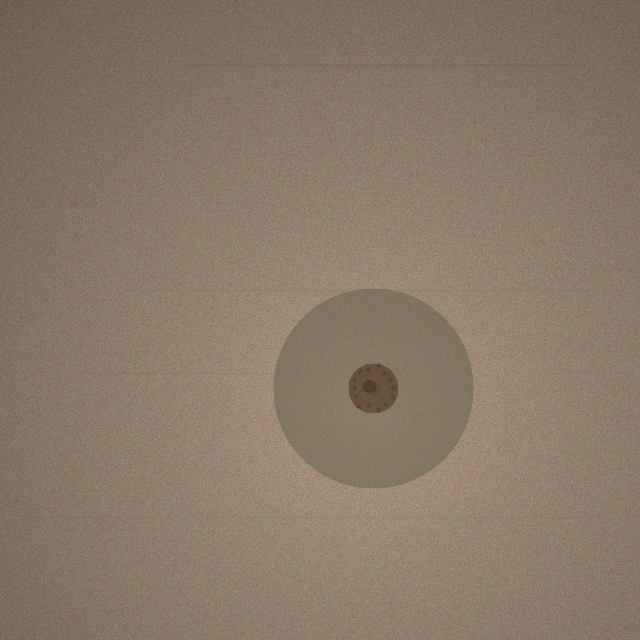cold_weld: (273, 288, 473, 488)
